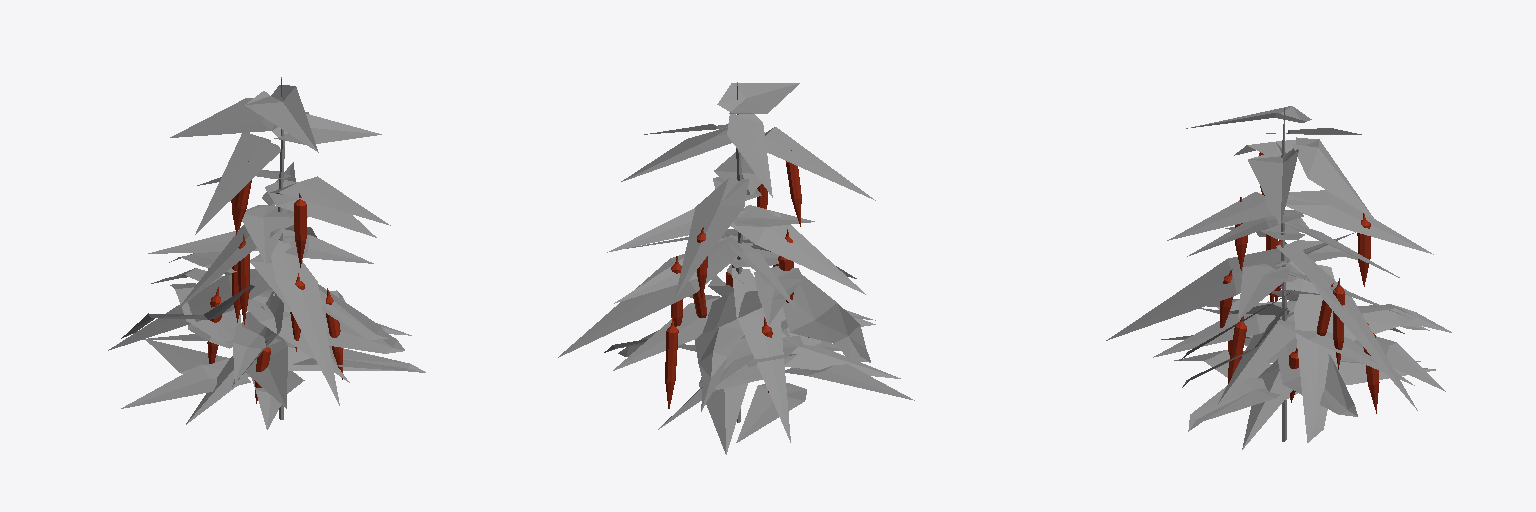
3 views of the same model, side by side, from view 1: azimuth 30°, elevation 25°; view 2: azimuth 150°, elevation 25°; view 3: azimuth 270°, elevation 25° (orthographic).
Visible parts, largest first — view 1: Default_Layer; view 2: Default_Layer; view 3: Default_Layer.
Boxes of the visible parts, x1,y1,x2,y2 form: Default_Layer: [108, 77, 425, 429]; Default_Layer: [558, 82, 914, 454]; Default_Layer: [1106, 106, 1451, 449].
Size of the model in its own units: 2587 by 2973 by 2748.
Materials: 2 (1 with a texture image).